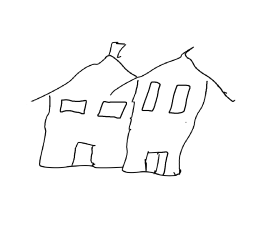chimney: (104, 33, 128, 64)
door: (69, 138, 97, 168), (144, 149, 170, 178)
open_window: (166, 80, 193, 117), (139, 80, 165, 114), (97, 95, 129, 120), (54, 95, 87, 117)
single_line_roof: (110, 48, 238, 104), (26, 53, 146, 106)
wall: (120, 79, 211, 176), (41, 91, 140, 171)
